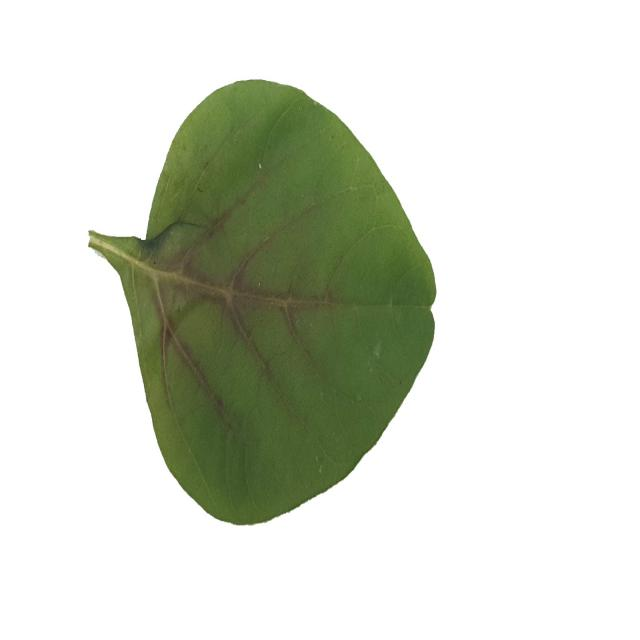Medicinal-Arive Dantu: (95, 78, 439, 527)
